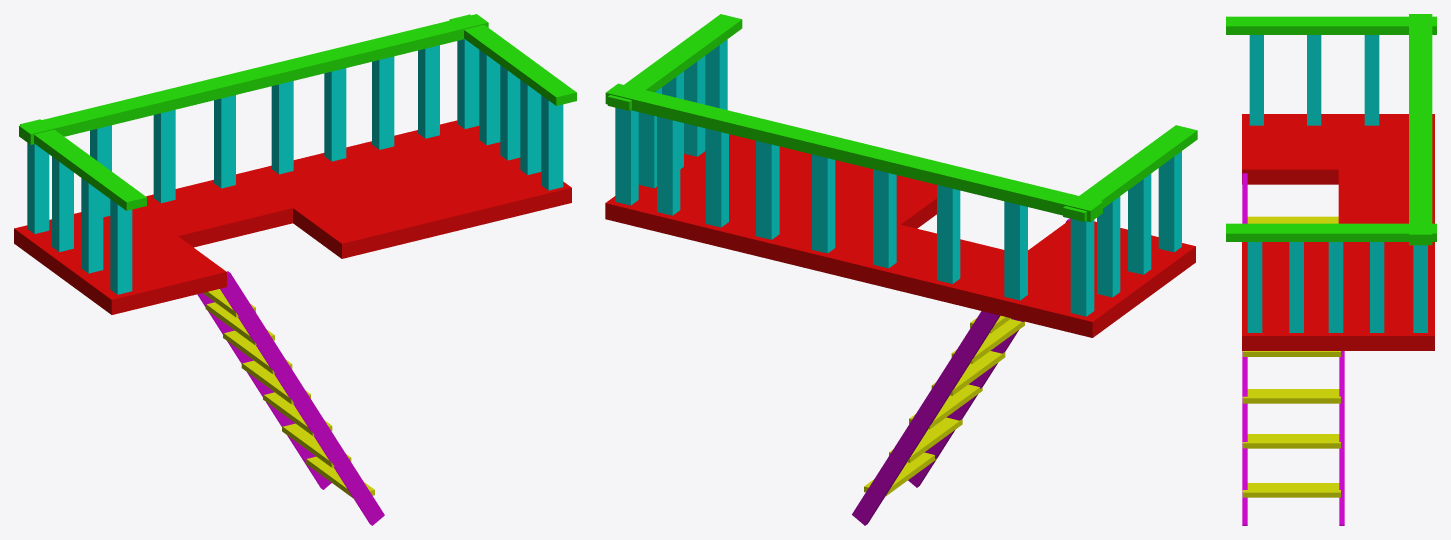
Rendered from FenceModel5.fbx.
The picture shows the model from 3 angles, left to right: view 1: azimuth 30°, elevation 25°; view 2: azimuth 150°, elevation 25°; view 3: azimuth 270°, elevation 25°; orthographic projection. The views are drawn at different scales.
Visible parts, largest first — view 1: pCube207; view 2: pCube207; view 3: pCube207.
Part boxes in pixels (box(x1,y1,x2,y2)): pCube207: box(14, 14, 576, 525); pCube207: box(605, 14, 1197, 525); pCube207: box(1226, 14, 1436, 525).
Size of the model in its own units: 25.59 by 20.82 by 10.25.
